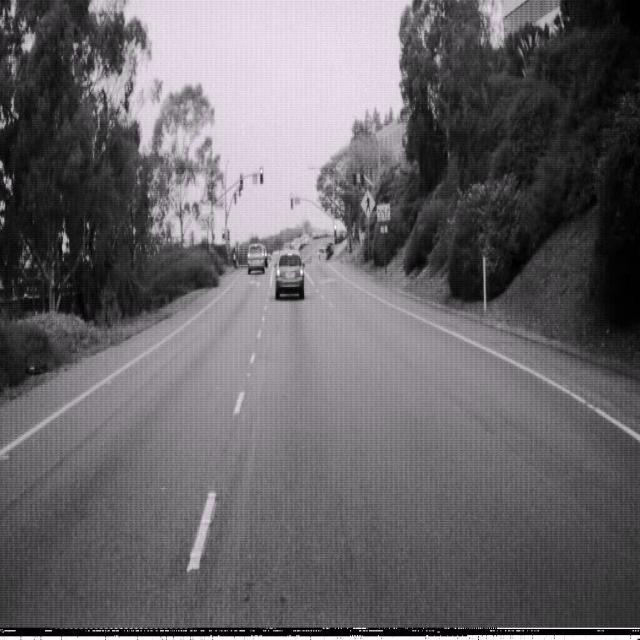pedestrianCrossing: (360, 188, 376, 218)
